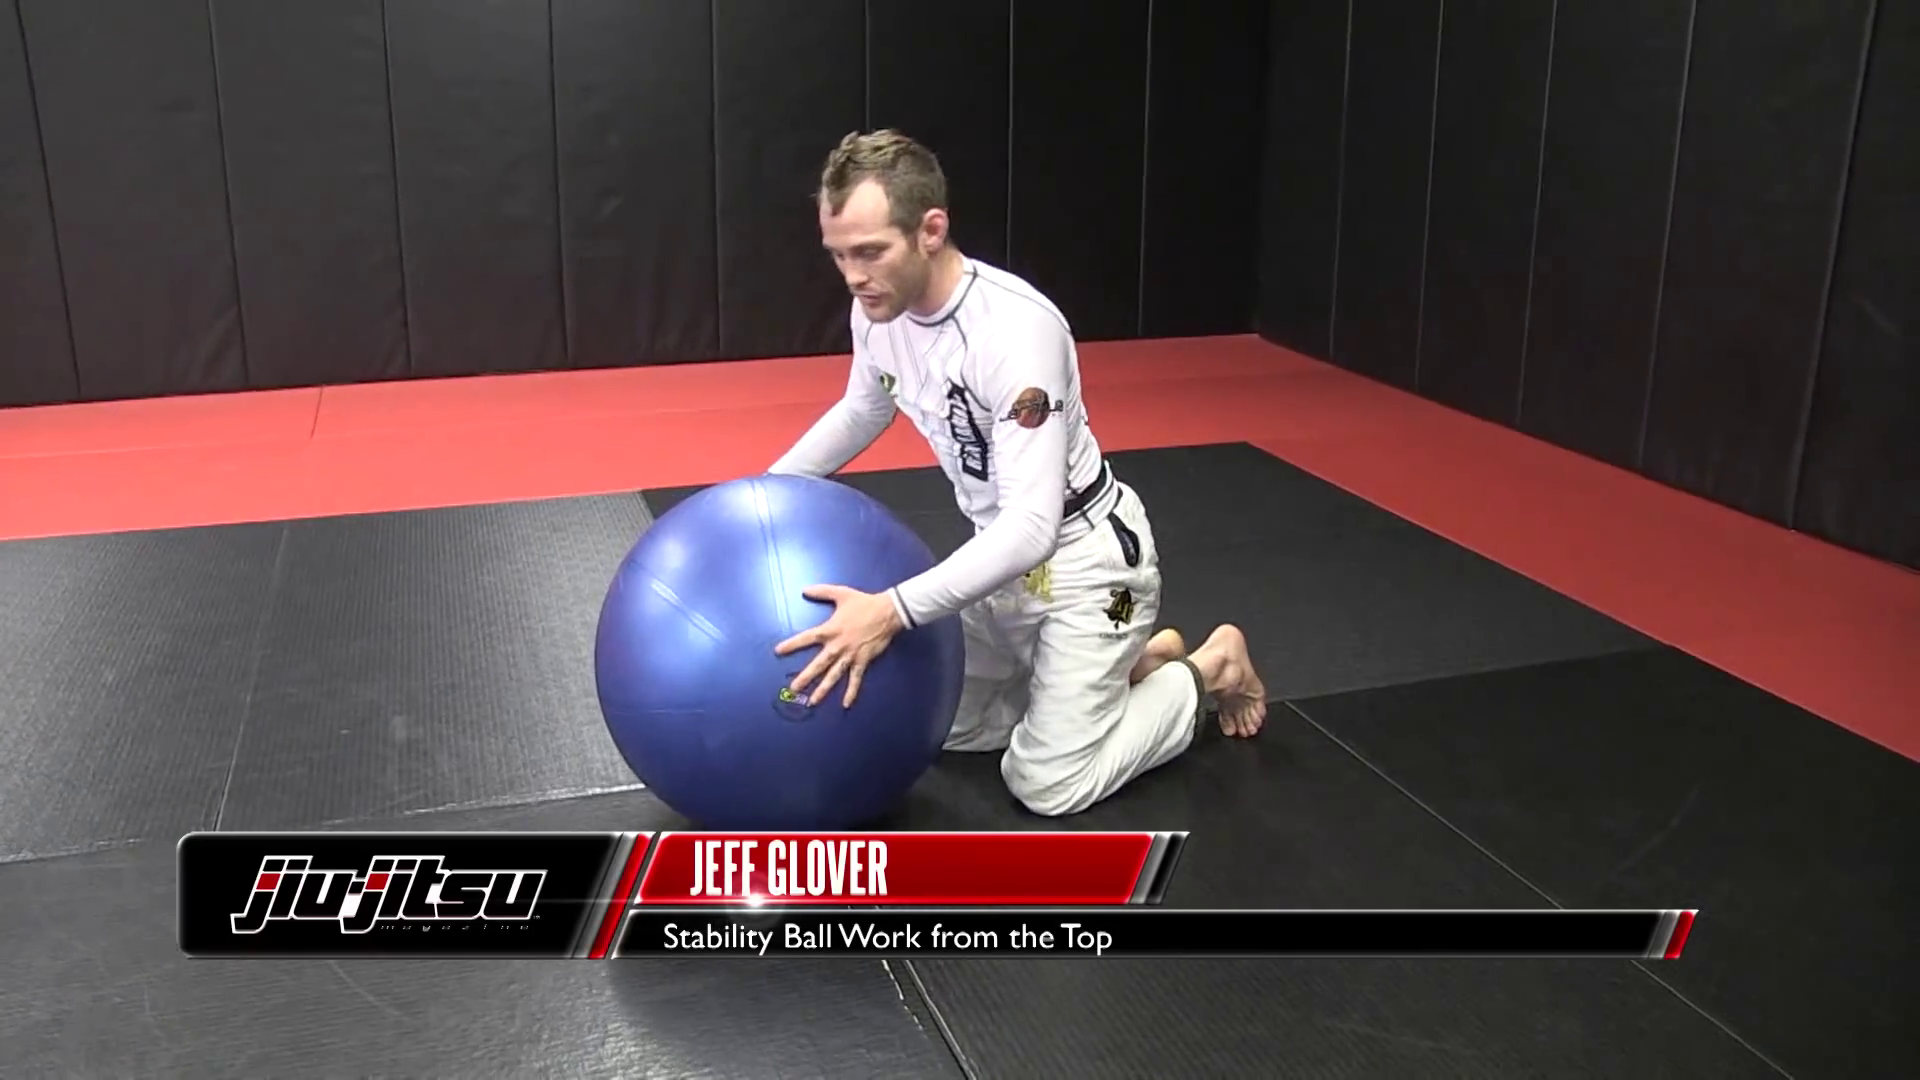yogaball: (574, 462, 989, 849)
